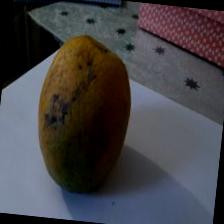Orange Rotten: (27, 22, 152, 212)
